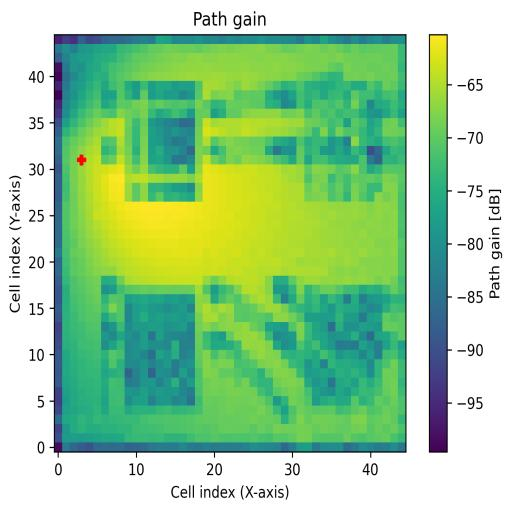Concrete: (304, 81, 384, 201)
Glass: (126, 81, 202, 201)
Metal: (304, 285, 391, 405)
Wood: (124, 296, 196, 406)
